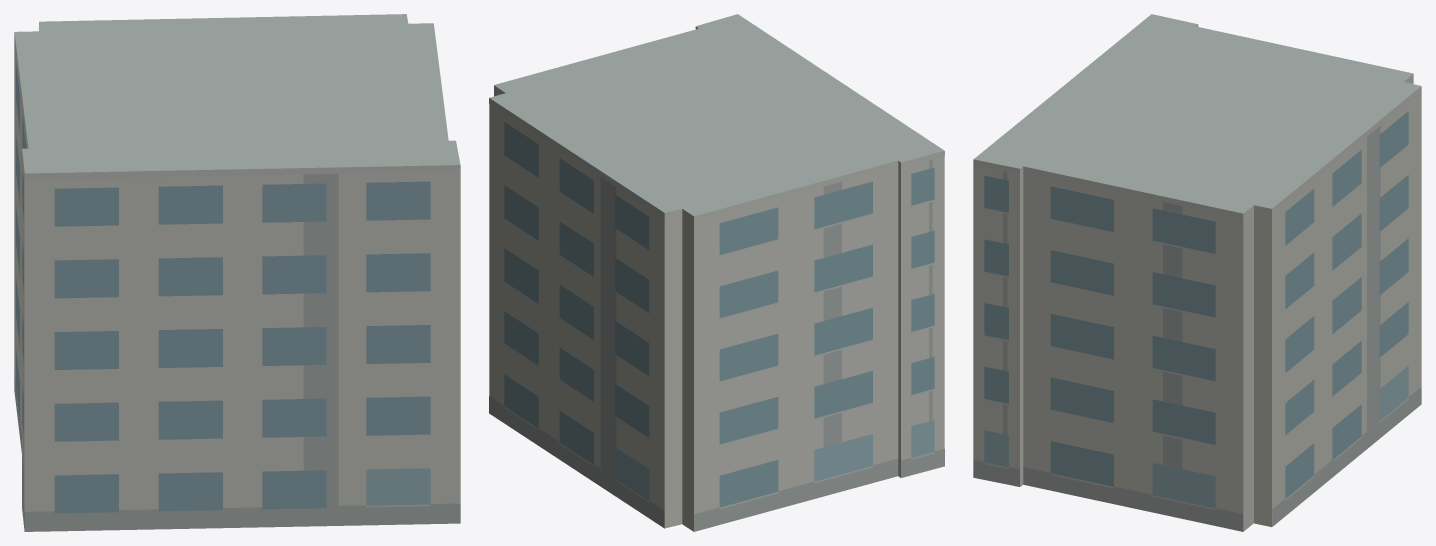
The model's file is survey-upis-32887762.glb.
3 renders of one model, left to right at view 1: azimuth 30°, elevation 25°; view 2: azimuth 150°, elevation 25°; view 3: azimuth 270°, elevation 25°, orthographic. The views are drawn at different scales.
Parts seen in each view (by area): view 1: survey-upis-32887762.tmp; view 2: survey-upis-32887762.tmp; view 3: survey-upis-32887762.tmp.
Boxes of the visible parts, left/top/right/bottom form: survey-upis-32887762.tmp: left=14, top=14, right=460, bottom=531; survey-upis-32887762.tmp: left=489, top=14, right=944, bottom=531; survey-upis-32887762.tmp: left=973, top=14, right=1421, bottom=531.
Bounding box in the file's own units: 18.3 × 13.6 × 17.36.
